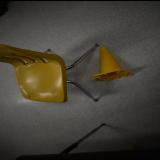cone: (90, 45, 134, 81)
